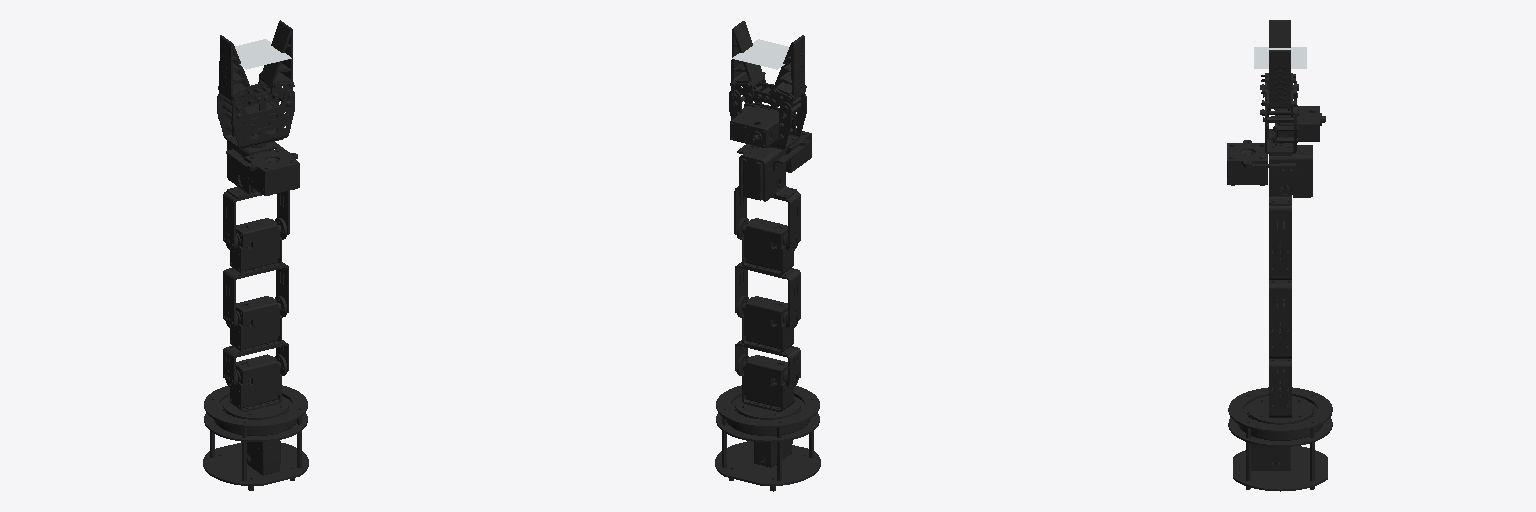
The robot description file, URDF, robot "s2a_arm":
<?xml version="1.0" ?>
<!-- =================================================================================== -->
<!-- |    This document was autogenerated by xacro from /home/noodles/bash/upros_class_code/src/s2a_description/urdf/s2a_arm.xacro | -->
<!-- |    EDITING THIS FILE BY HAND IS NOT RECOMMENDED                                 | -->
<!-- =================================================================================== -->
<robot name="s2a_arm">
    <link name="base_footprint" />
    <link name="arm_base_link">
        <inertial>
            <origin rpy="0 0 0" xyz="-1.7947E-07 -0.0018392 0.042093" />
            <mass value="14.14029" />
            <inertia ixx="0.00016721" ixy="-1.4903E-10" ixz="-3.0653E-10" iyy="0.00016551" iyz="-2.4534E-06" izz="0.0001699" />
        </inertial>
        <visual>
            <origin rpy="0 0 0" xyz="0 0 0" />
            <geometry>
                <mesh filename="package://s2a_description/meshes/arm/arm_base_link.STL" />
            </geometry>
            <material name="">
                <color rgba="0.2 0.2 0.2 1" />
            </material>
        </visual>
        <collision>
            <origin rpy="0 0 0" xyz="0 0 0" />
            <geometry>
                <mesh filename="package://s2a_description/meshes/arm/arm_base_link.STL" />
            </geometry>
        </collision>
    </link>
    <joint name="arm_joint" type="fixed">
        <origin rpy="0 0 0" xyz="0.0 0.0 0.0" />
        <parent link="base_footprint" />
        <child link="arm_base_link" />
        <axis xyz="0 0 0" />
    </joint>
    <link name="link_1">
        <inertial>
            <origin rpy="0 0 0" xyz="0.00015999 -3.7029E-07 0.0067201" />
            <mass value="0.068148" />
            <inertia ixx="3.0609E-05" ixy="-5.9099E-11" ixz="-1.3841E-07" iyy="3.6584E-05" iyz="4.9301E-10" izz="2.3547E-05" />
        </inertial>
        <visual>
            <origin rpy="0 0 0" xyz="0 0 0" />
            <geometry>
                <mesh filename="package://s2a_description/meshes/arm/link_1.STL" />
            </geometry>
            <material name="">
                <color rgba="0.2 0.2 0.2 1" />
            </material>
        </visual>
        <collision>
            <origin rpy="0 0 0" xyz="0 0 0" />
            <geometry>
                <mesh filename="package://s2a_description/meshes/arm/link_1.STL" />
            </geometry>
        </collision>
    </link>
    <joint name="joint_1" type="revolute">
        <origin rpy="0 0 0" xyz="0 0 0.072247" />
        <parent link="arm_base_link" />
        <child link="link_1" />
        <axis xyz="0 0 1" />
        <limit effort="50" lower="-1.8" upper="1.8" velocity="2" />
    </joint>
    <link name="link_2">
        <inertial>
            <origin rpy="0 0 0" xyz="0.028477 -5.0821E-07 0.038913" />
            <mass value="0.049654" />
            <inertia ixx="1.8351E-05" ixy="-6.0792E-11" ixz="-6.4071E-08" iyy="3.1671E-05" iyz="3.6197E-10" izz="1.6517E-05" />
        </inertial>
        <visual>
            <origin rpy="0 0 0" xyz="0 0 0" />
            <geometry>
                <mesh filename="package://s2a_description/meshes/arm/link_2.STL" />
            </geometry>
            <material name="">
                <color rgba="0.2 0.2 0.2 1" />
            </material>
        </visual>
        <collision>
            <origin rpy="0 0 0" xyz="0 0 0" />
            <geometry>
                <mesh filename="package://s2a_description/meshes/arm/link_2.STL" />
            </geometry>
        </collision>
    </link>
    <joint name="joint_2" type="revolute">
        <origin rpy="0 0 0" xyz="-0.028151 0 0.034" />
        <parent link="link_1" />
        <child link="link_2" />
        <axis xyz="1 0 0" />
        <limit effort="50" lower="-1.8" upper="1.8" velocity="3" />
    </joint>
    <link name="link_3">
        <inertial>
            <origin rpy="0 0 0" xyz="0.028363 -4.679E-07 0.054247" />
            <mass value="0.053931" />
            <inertia ixx="3.1912E-05" ixy="-6.0429E-11" ixz="-9.8626E-08" iyy="4.873E-05" iyz="4.797E-10" izz="2.0341E-05" />
        </inertial>
        <visual>
            <origin rpy="0 0 0" xyz="0 0 0" />
            <geometry>
                <mesh filename="package://s2a_description/meshes/arm/link_3.STL" />
            </geometry>
            <material name="">
                <color rgba="0.2 0.2 0.2 1" />
            </material>
        </visual>
        <collision>
            <origin rpy="0 0 0" xyz="0 0 0" />
            <geometry>
                <mesh filename="package://s2a_description/meshes/arm/link_3.STL" />
            </geometry>
        </collision>
    </link>
    <joint name="joint_3" type="revolute">
        <origin rpy="0 0 0" xyz="9.8516E-05 0 0.061" />
        <parent link="link_2" />
        <child link="link_3" />
        <axis xyz="1 0 0" />
        <limit effort="50" lower="-1.8" upper="1.8" velocity="3" />
    </joint>
    <link name="link_4">
        <inertial>
            <origin rpy="0 0 0" xyz="0.028255 -0.0047504 0.06611" />
            <mass value="0.10537" />
            <inertia ixx="9.6221E-05" ixy="-3.6252E-10" ixz="2.7529E-08" iyy="7.3811E-05" iyz="7.9136E-06" izz="6.9537E-05" />
        </inertial>
        <visual>
            <origin rpy="0 0 0" xyz="0 0 0" />
            <geometry>
                <mesh filename="package://s2a_description/meshes/arm/link_4.STL" />
            </geometry>
            <material name="">
                <color rgba="0.2 0.2 0.2 1" />
            </material>
        </visual>
        <collision>
            <origin rpy="0 0 0" xyz="0 0 0" />
            <geometry>
                <mesh filename="package://s2a_description/meshes/arm/link_4.STL" />
            </geometry>
        </collision>
    </link>
    <joint name="joint_4" type="revolute">
        <origin rpy="0 0 0" xyz="0 0 0.081" />
        <parent link="link_3" />
        <child link="link_4" />
        <axis xyz="1 0 0" />
        <limit effort="50" lower="-1.8" upper="1.8" velocity="3" />
    </joint>
    <link name="link_5">
        <inertial>
            <origin rpy="0 0 0" xyz="4.4212E-05 0.0041269 0.025698" />
            <mass value="0.098063" />
            <inertia ixx="3.7917E-05" ixy="1.4713E-07" ixz="-1.1994E-07" iyy="5.5952E-05" iyz="2.3438E-06" izz="5.2518E-05" />
        </inertial>
        <visual>
            <origin rpy="0 0 0" xyz="0 0 0" />
            <geometry>
                <mesh filename="package://s2a_description/meshes/arm/link_5.STL" />
            </geometry>
            <material name="">
                <color rgba="0.2 0.2 0.2 1" />
            </material>
        </visual>
        <collision>
            <origin rpy="0 0 0" xyz="0 0 0" />
            <geometry>
                <mesh filename="package://s2a_description/meshes/arm/link_5.STL" />
            </geometry>
        </collision>
    </link>
    <joint name="joint_5" type="revolute">
        <origin rpy="0 0 0" xyz="0.02825 0 0.0975" />
        <parent link="link_4" />
        <child link="link_5" />
        <axis xyz="0 0 -1" />
        <limit effort="50" lower="-1.8" upper="1.8" velocity="3" />
    </joint>
    <link name="gripper_center_link">
        <visual>
            <geometry>
                <box size="0.05 0.05 0.0001" />
            </geometry>
            <origin rpy="0.0 0.0 0.0" xyz="0.0 0.0 0.01" />
            <material name="">
                <color rgba="0.898039215686275 0.917647058823529 0.929411764705882 1" />
            </material>
        </visual>
        <collision>
            <geometry>
                <box size="0.05 0.05 0.01" />
            </geometry>
            <origin rpy="0.0 0.0 0.0" xyz="0.0 0.0 0.01" />
        </collision>
        <inertial>
            <mass value="0.00000001" />
            <inertia ixx="0.0001" ixy="0.0" ixz="0.0" iyy="0.0001" iyz="0.0" izz="0.0001" />
            <origin xyz="0 0 0" rpy="0 0 0" />
        </inertial>
    </link>
    <joint name="gripper_centor_joint" type="fixed">
        <parent link="link_5" />
        <child link="gripper_center_link" />
        <origin rpy="0.0 0.0 0.0" xyz="0.0 0.0 0.08" />
    </joint>
    <link name="claw_link_1">
        <inertial>
            <origin rpy="0 0 0" xyz="0.0054256 -0.015308 0.019147" />
            <mass value="0.018231" />
            <inertia ixx="6.9914E-06" ixy="-3.7017E-08" ixz="1.3043E-06" iyy="6.7797E-06" iyz="4.9174E-08" izz="2.5386E-06" />
        </inertial>
        <visual>
            <origin rpy="0 0 0" xyz="0 0 0" />
            <geometry>
                <mesh filename="package://s2a_description/meshes/arm/claw_link_1.STL" />
            </geometry>
            <material name="">
                <color rgba="0.2 0.2 0.2 1" />
            </material>
        </visual>
        <collision>
            <origin rpy="0 0 0" xyz="0 0 0" />
            <geometry>
                <mesh filename="package://s2a_description/meshes/arm/claw_link_1.STL" />
            </geometry>
        </collision>
    </link>
    <joint name="claw_joint_1" type="fixed">
        <origin rpy="0 0 0" xyz="-0.028 0.015 0.0462" />
        <parent link="link_5" />
        <child link="claw_link_1" />
        <axis xyz="0 -1 0" />
        <limit effort="10" lower="-1.5" upper="1.5" velocity="3" />
    </joint>
    <link name="claw_link_2">
        <inertial>
            <origin rpy="0 0 0" xyz="-0.0054256 -0.015308 0.019147" />
            <mass value="0.018231" />
            <inertia ixx="6.9914E-06" ixy="3.7016E-08" ixz="-1.3043E-06" iyy="6.7797E-06" iyz="4.9173E-08" izz="2.5386E-06" />
        </inertial>
        <visual>
            <origin rpy="0 0 0" xyz="0 0 0" />
            <geometry>
                <mesh filename="package://s2a_description/meshes/arm/claw_link_2.STL" />
            </geometry>
            <material name="">
                <color rgba="0.2 0.2 0.2 1" />
            </material>
        </visual>
        <collision>
            <origin rpy="0 0 0" xyz="0 0 0" />
            <geometry>
                <mesh filename="package://s2a_description/meshes/arm/claw_link_2.STL" />
            </geometry>
        </collision>
    </link>
    <joint name="claw_joint_2" type="fixed">
        <origin rpy="0 0 0" xyz="0.027609 0.015 0.0462" />
        <parent link="link_5" />
        <child link="claw_link_2" />
        <axis xyz="0 -1 0" />
        <limit effort="10" lower="-1.5" upper="1.5" velocity="3" />
    </joint>
    <!-- ros_control plugin -->
    <gazebo>
        <plugin filename="libgazebo_ros_control.so" name="gazebo_ros_control">
            <robotNamespace>/</robotNamespace>
            <robotSimType>gazebo_ros_control/DefaultRobotHWSim</robotSimType>
            <legacyModeNS>true</legacyModeNS>
        </plugin>
    </gazebo>
    <transmission name="tran1">
        <type>transmission_interface/SimpleTransmission</type>
        <joint name="joint_1">
            <hardwareInterface>hardware_interface/PositionJointInterface</hardwareInterface>
        </joint>
        <actuator name="motor1">
            <hardwareInterface>hardware_interface/PositionJointInterface</hardwareInterface>
            <mechanicalReduction>1</mechanicalReduction>
        </actuator>
    </transmission>
    <transmission name="tran1">
        <type>transmission_interface/SimpleTransmission</type>
        <joint name="joint_2">
            <hardwareInterface>hardware_interface/PositionJointInterface</hardwareInterface>
        </joint>
        <actuator name="motor1">
            <hardwareInterface>hardware_interface/PositionJointInterface</hardwareInterface>
            <mechanicalReduction>1</mechanicalReduction>
        </actuator>
    </transmission>
    <transmission name="tran1">
        <type>transmission_interface/SimpleTransmission</type>
        <joint name="joint_3">
            <hardwareInterface>hardware_interface/PositionJointInterface</hardwareInterface>
        </joint>
        <actuator name="motor1">
            <hardwareInterface>hardware_interface/PositionJointInterface</hardwareInterface>
            <mechanicalReduction>1</mechanicalReduction>
        </actuator>
    </transmission>
    <transmission name="tran1">
        <type>transmission_interface/SimpleTransmission</type>
        <joint name="joint_4">
            <hardwareInterface>hardware_interface/PositionJointInterface</hardwareInterface>
        </joint>
        <actuator name="motor1">
            <hardwareInterface>hardware_interface/PositionJointInterface</hardwareInterface>
            <mechanicalReduction>1</mechanicalReduction>
        </actuator>
    </transmission>
    <transmission name="tran1">
        <type>transmission_interface/SimpleTransmission</type>
        <joint name="joint_5">
            <hardwareInterface>hardware_interface/PositionJointInterface</hardwareInterface>
        </joint>
        <actuator name="motor1">
            <hardwareInterface>hardware_interface/PositionJointInterface</hardwareInterface>
            <mechanicalReduction>1</mechanicalReduction>
        </actuator>
    </transmission>
    <transmission name="tran1">
        <type>transmission_interface/SimpleTransmission</type>
        <joint name="claw_joint_1">
            <hardwareInterface>hardware_interface/PositionJointInterface</hardwareInterface>
        </joint>
        <actuator name="motor1">
            <hardwareInterface>hardware_interface/PositionJointInterface</hardwareInterface>
            <mechanicalReduction>1</mechanicalReduction>
        </actuator>
    </transmission>
    <transmission name="tran1">
        <type>transmission_interface/SimpleTransmission</type>
        <joint name="claw_joint_2">
            <hardwareInterface>hardware_interface/PositionJointInterface</hardwareInterface>
        </joint>
        <actuator name="motor1">
            <hardwareInterface>hardware_interface/PositionJointInterface</hardwareInterface>
            <mechanicalReduction>1</mechanicalReduction>
        </actuator>
    </transmission>
</robot>

--- Facts derived from the render (not from the file) ---
3 views of the same robot in one strip: view 1: azimuth 30°, elevation 25°; view 2: azimuth 150°, elevation 25°; view 3: azimuth 270°, elevation 25° (orthographic).
Robot: s2a_arm — 10 links, 9 joints (5 revolute, 4 fixed); root link base_footprint; default pose: every joint at zero.
Links seen in each view (by area): view 1: arm_base_link, link_4, link_3, link_5, link_2, link_1, claw_link_1, claw_link_2, gripper_center_link; view 2: arm_base_link, link_4, link_3, link_5, link_2, link_1, claw_link_1, claw_link_2, gripper_center_link; view 3: arm_base_link, link_4, link_5, link_3, link_1, claw_link_2, link_2, claw_link_1, gripper_center_link.
Link boxes in pixels (left/top/right/bottom): arm_base_link: left=203, top=385, right=308, bottom=490; link_4: left=223, top=141, right=299, bottom=251; link_3: left=223, top=218, right=288, bottom=329; link_5: left=217, top=82, right=294, bottom=149; link_2: left=223, top=296, right=288, bottom=388; link_1: left=223, top=354, right=288, bottom=419; claw_link_1: left=218, top=35, right=255, bottom=105; claw_link_2: left=258, top=20, right=294, bottom=99; gripper_center_link: left=235, top=39, right=291, bottom=69; arm_base_link: left=715, top=385, right=820, bottom=491; link_4: left=734, top=131, right=811, bottom=251; link_3: left=735, top=218, right=800, bottom=329; link_5: left=729, top=82, right=806, bottom=149; link_2: left=735, top=296, right=800, bottom=388; link_1: left=735, top=355, right=800, bottom=419; claw_link_1: left=769, top=35, right=806, bottom=106; claw_link_2: left=730, top=21, right=765, bottom=99; gripper_center_link: left=732, top=39, right=788, bottom=69; arm_base_link: left=1228, top=387, right=1332, bottom=491; link_4: left=1227, top=140, right=1312, bottom=261; link_5: left=1260, top=81, right=1325, bottom=155; link_3: left=1269, top=221, right=1291, bottom=339; link_1: left=1248, top=369, right=1313, bottom=424; claw_link_2: left=1261, top=50, right=1296, bottom=116; link_2: left=1269, top=299, right=1291, bottom=398; claw_link_1: left=1261, top=20, right=1296, bottom=94; gripper_center_link: left=1254, top=47, right=1306, bottom=68.
Bounding box of the posed robot: 0.1 × 0.099 × 0.4592 m (x, y, z).
8 mesh visuals loaded from 8 distinct referenced files (8 binary STL).
